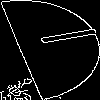I: (25, 25, 99, 50)
